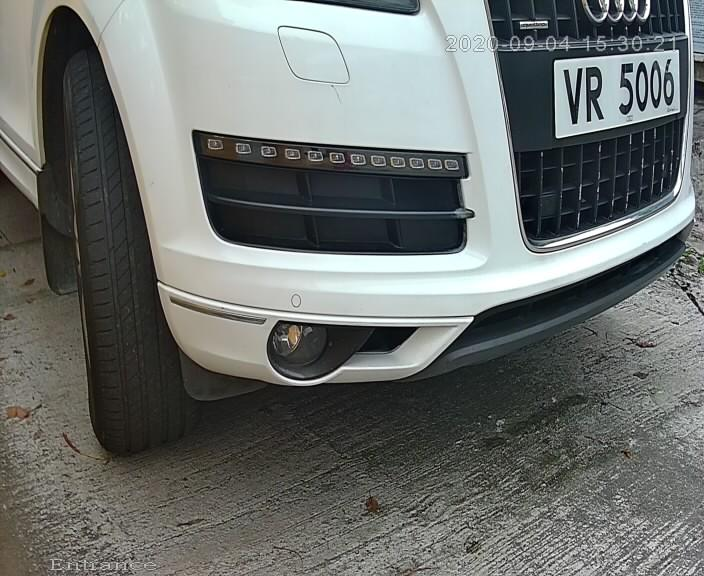License Plate: (547, 37, 683, 157)
